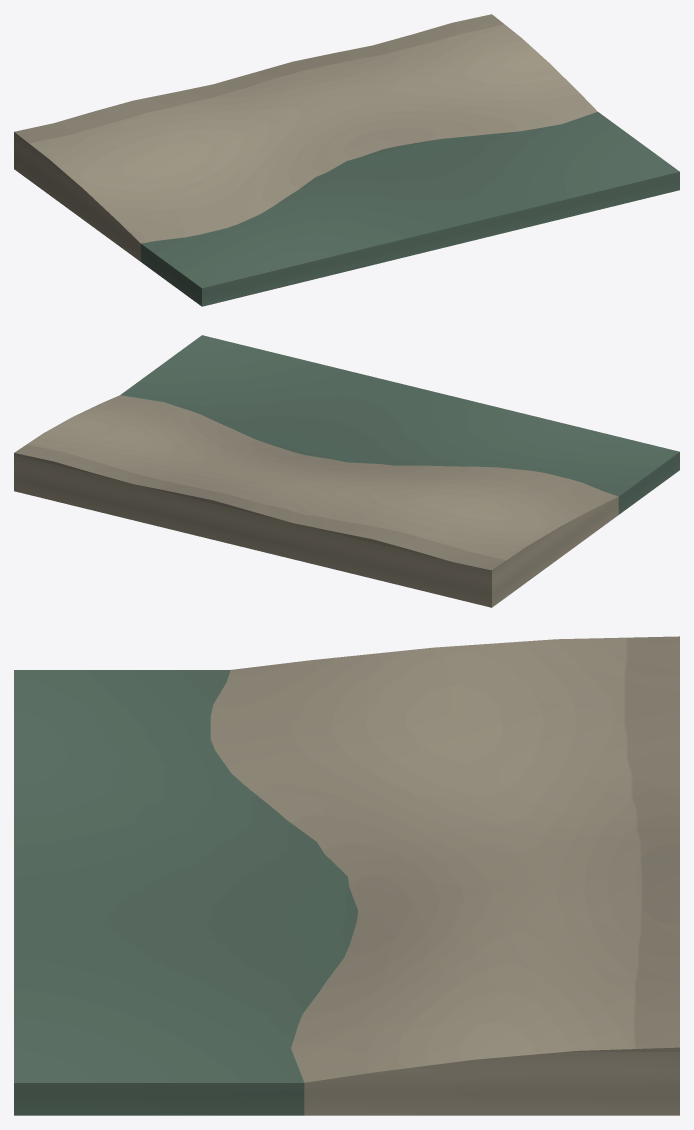
3 views of the same model, one above another, from view 1: azimuth 30°, elevation 25°; view 2: azimuth 150°, elevation 25°; view 3: azimuth 270°, elevation 25° (orthographic). The views are drawn at different scales.
Visible parts, largest first — view 1: west-island; view 2: west-island; view 3: west-island.
Part boxes in pixels (x1,y1,x2,y2): west-island: (14, 14, 679, 306); west-island: (14, 335, 679, 607); west-island: (14, 636, 679, 1115).
Size of the model in its own units: 6.97 by 0.5499 by 4.75.
Materials: 1 (1 with a texture image).
